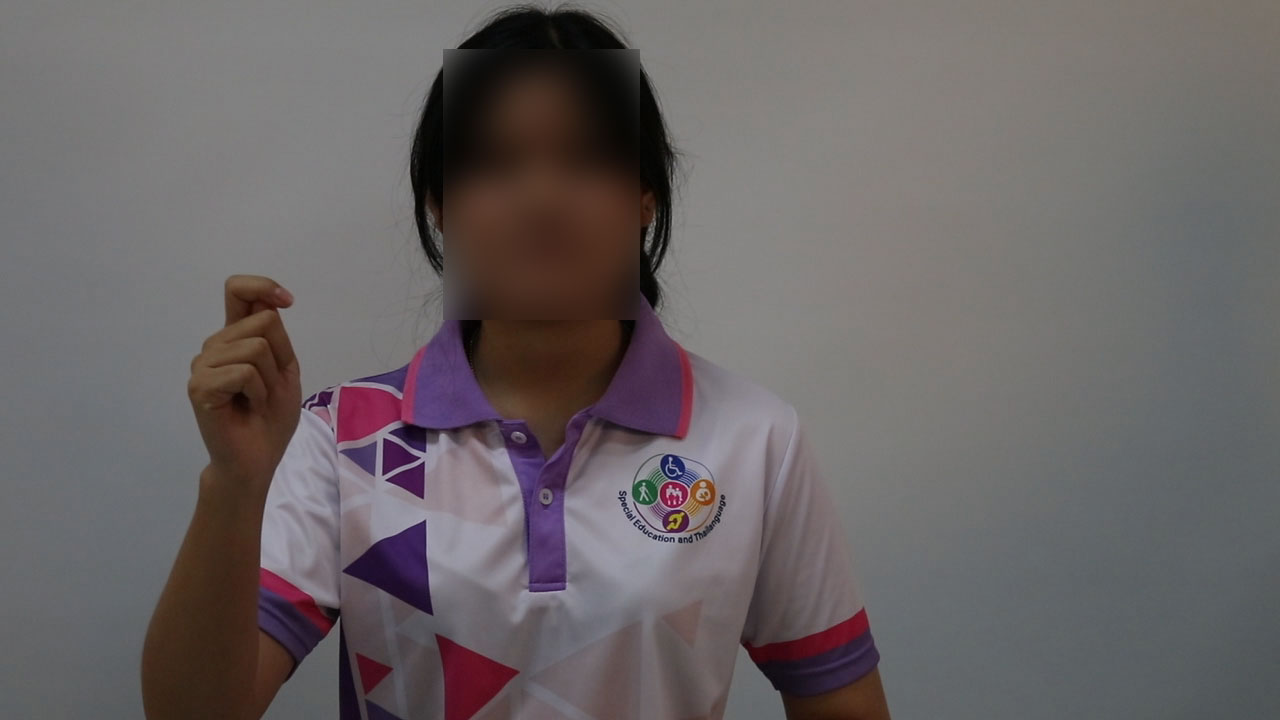or: (167, 271, 309, 493)
